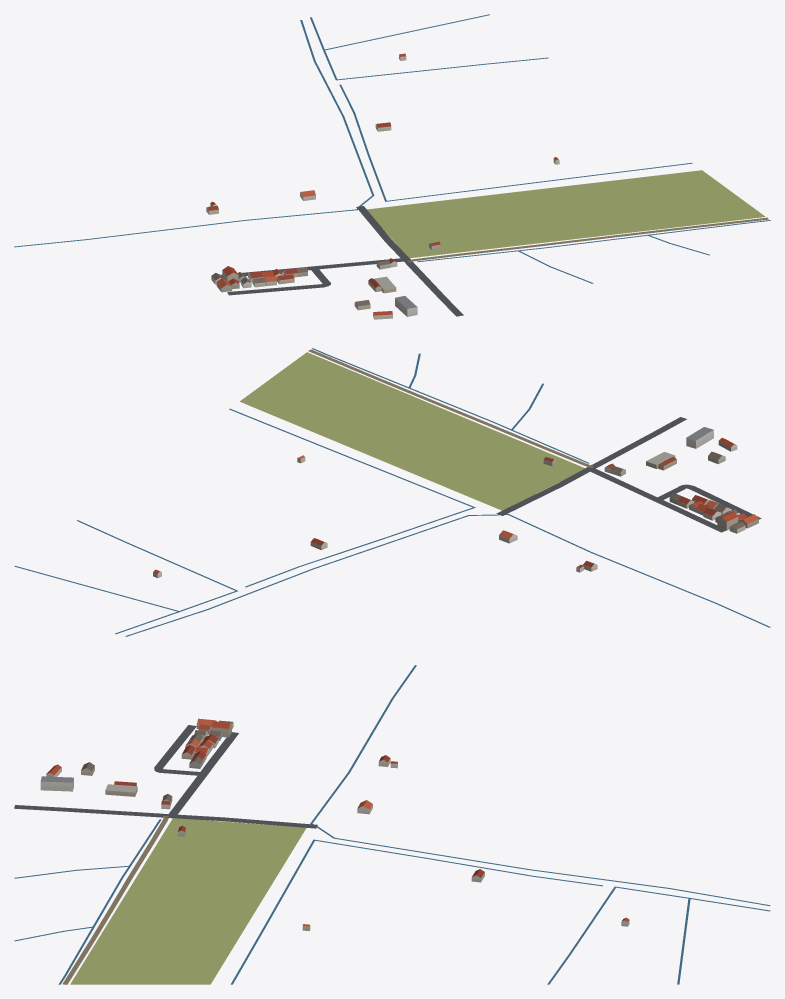
3 renders of one model, top to bottom at view 1: azimuth 30°, elevation 25°; view 2: azimuth 150°, elevation 25°; view 3: azimuth 270°, elevation 25°, orthographic. The views are drawn at different scales.
Visible parts, largest first — view 1: landuse, water, roads, buildings_roofs, buildings_walls; view 2: landuse, water, roads, buildings_walls, buildings_roofs; view 3: landuse, roads, water, buildings_roofs, buildings_walls.
Boxes of the visible parts, bbox=[...] form: landuse: bbox=[367, 170, 765, 258]; water: bbox=[14, 14, 770, 283]; roads: bbox=[221, 206, 768, 316]; buildings_roofs: bbox=[208, 53, 558, 315]; buildings_walls: bbox=[206, 54, 559, 319]; landuse: bbox=[240, 352, 584, 510]; water: bbox=[14, 348, 770, 636]; roads: bbox=[308, 349, 761, 532]; buildings_walls: bbox=[153, 430, 758, 578]; buildings_roofs: bbox=[153, 427, 758, 573]; landuse: bbox=[70, 818, 306, 984]; roads: bbox=[14, 725, 317, 984]; water: bbox=[14, 665, 770, 984]; buildings_roofs: bbox=[40, 718, 629, 926]; buildings_walls: bbox=[40, 720, 629, 930].
Size of the model in its own units: 501 by 8.9 by 501.
